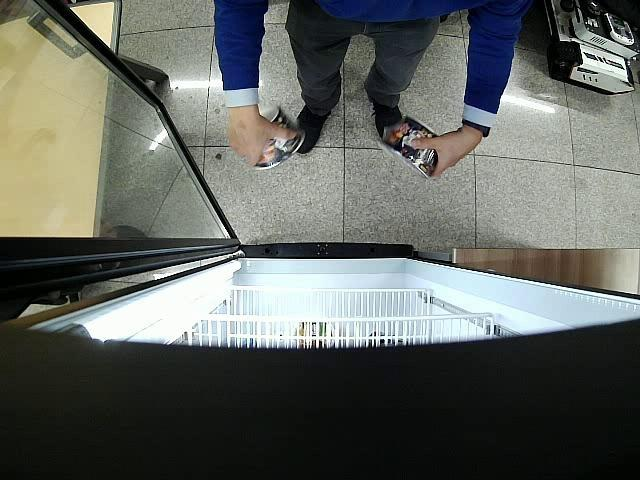07_buldak_L: (378, 115, 440, 178), (253, 106, 305, 169)
